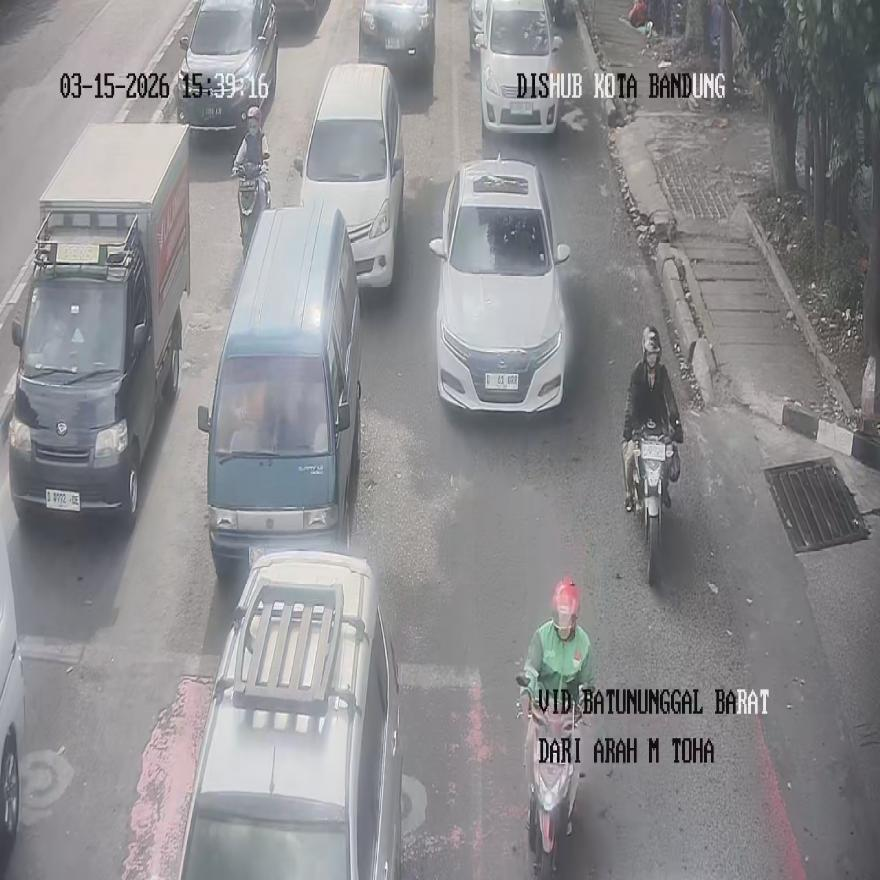Motor: (176, 550, 403, 879), (7, 125, 190, 523), (198, 202, 362, 576), (429, 155, 570, 413), (293, 64, 403, 287), (176, 0, 277, 132), (475, 0, 561, 134), (358, 0, 434, 73)
Truk: (517, 674, 584, 878), (625, 423, 679, 585), (236, 164, 270, 262)
